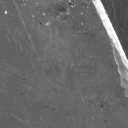corrosion: (68, 1, 76, 9), (45, 21, 50, 26), (3, 10, 8, 15), (80, 21, 84, 26), (42, 12, 46, 16), (79, 12, 84, 15), (32, 14, 35, 18)
